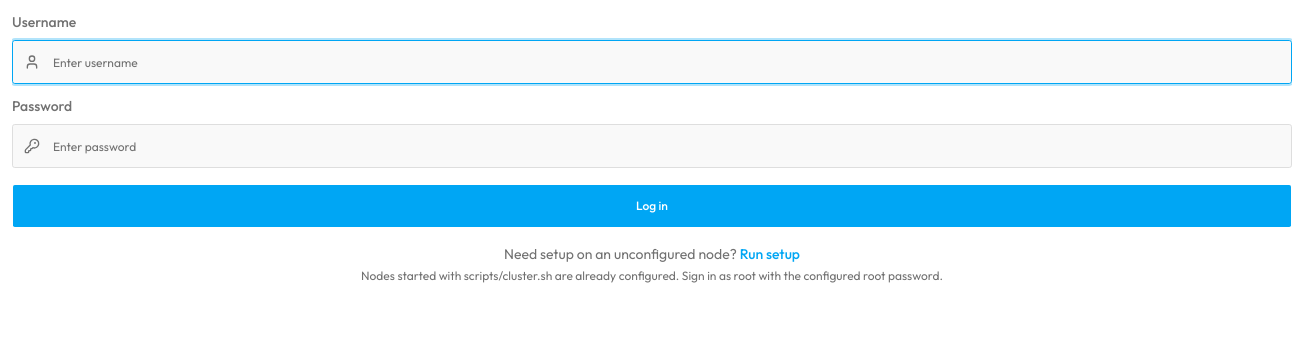
LoginForm › shows validation error when username or password is missing
Click the button "Log in".
click(652, 206)  # box [12,184,1292,228]
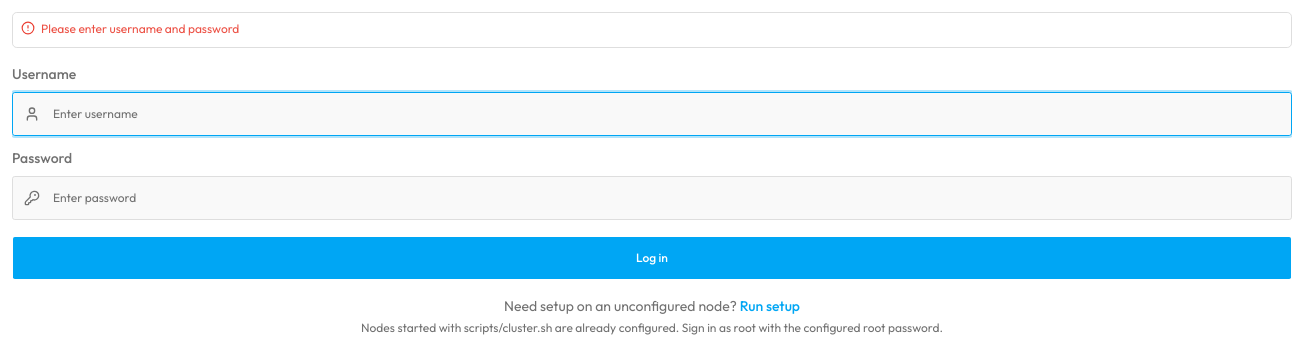
Result: the text "Please enter username and password" is shown at [41,21,239,36]
